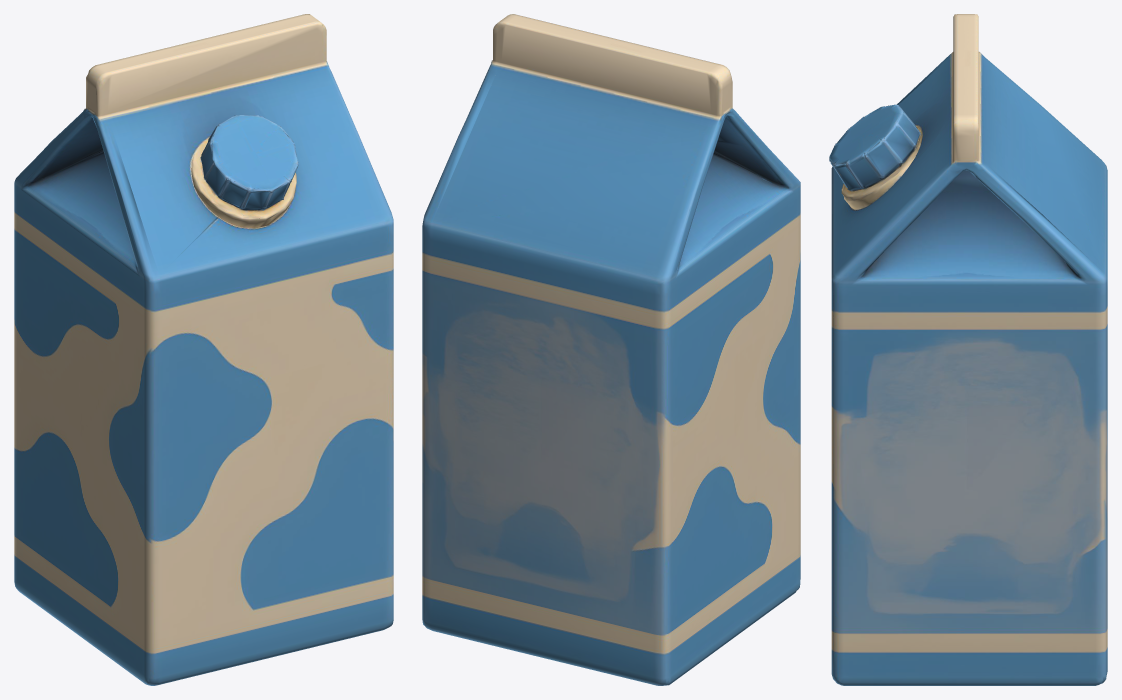
The model's file is milk.glb.
The picture shows the model from 3 angles, left to right: view 1: azimuth 30°, elevation 25°; view 2: azimuth 150°, elevation 25°; view 3: azimuth 270°, elevation 25°; orthographic projection.
Visible parts, largest first — view 1: Milk; view 2: Milk; view 3: Milk.
Boxes of the visible parts, x1=… form: Milk: x1=14, y1=14, x2=393, y2=685; Milk: x1=422, y1=14, x2=800, y2=685; Milk: x1=829, y1=14, x2=1107, y2=685.
Bounding box in the file's own units: 0.4551 × 0.998 × 0.4473.
1 material, 1 textured.
